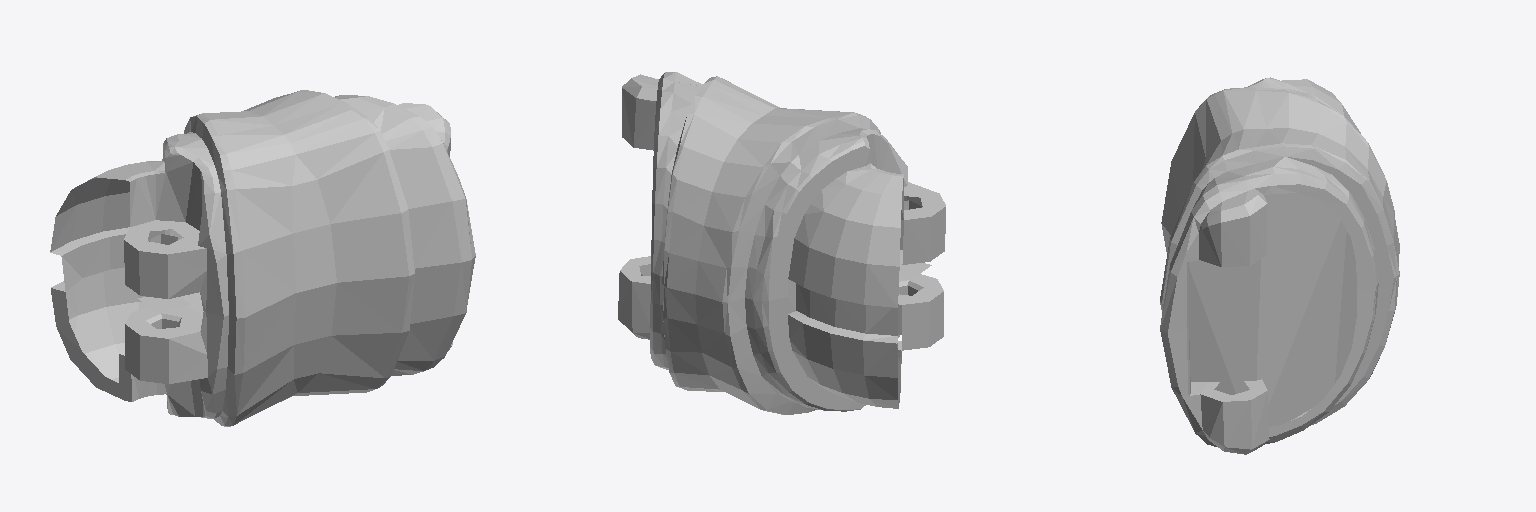
The model's file is Phalax.obj.
3 renders of one model, left to right at view 1: azimuth 30°, elevation 25°; view 2: azimuth 150°, elevation 25°; view 3: azimuth 270°, elevation 25°, orthographic.
Visible parts, largest first — view 1: root; view 2: root; view 3: root.
Boxes of the visible parts, <box> form: root: <box>50,90,475,426</box>; root: <box>618,72,945,414</box>; root: <box>1160,77,1399,454</box>.
Bounding box in the file's own units: 19.38 × 15.91 × 12.03.